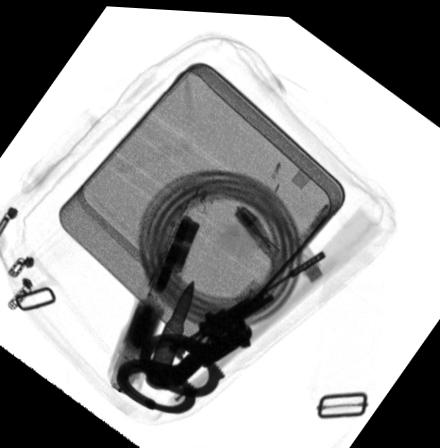Baton: (103, 165, 218, 396)
Bullet: (144, 274, 194, 388)
Gun: (167, 248, 326, 354)
HandCuffs: (115, 304, 252, 411)
